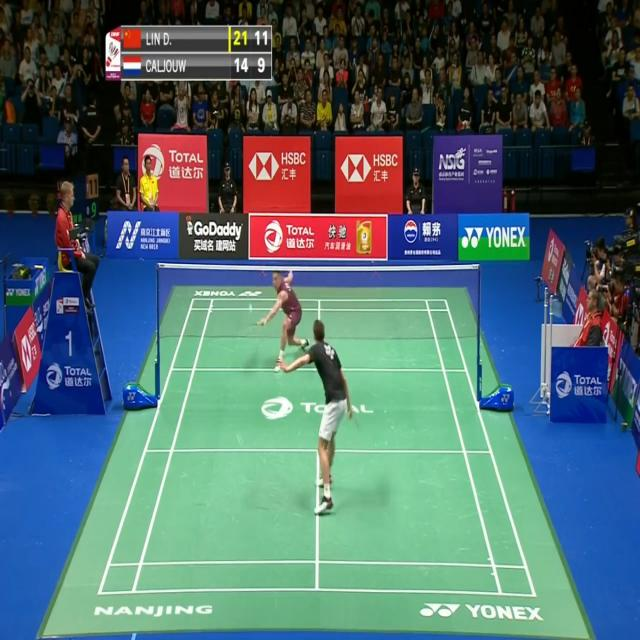Player1: (278, 308, 356, 524)
Player2: (256, 255, 314, 381)
